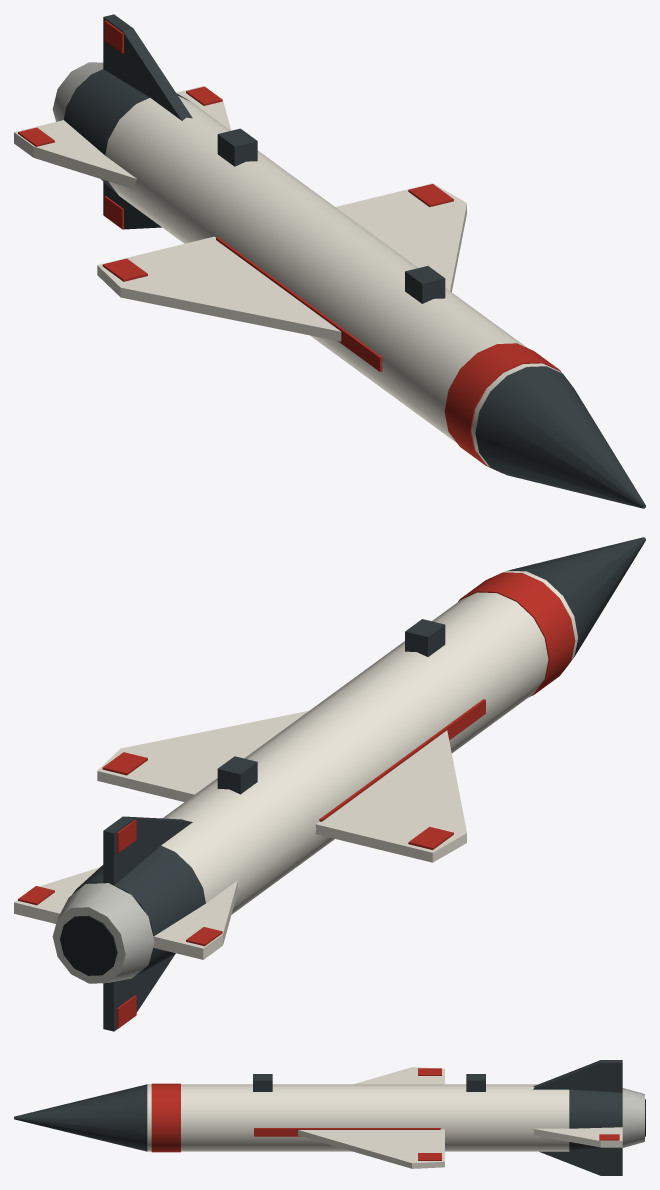
The picture shows the model from 3 angles, top to bottom: view 1: azimuth 30°, elevation 25°; view 2: azimuth 150°, elevation 25°; view 3: azimuth 270°, elevation 25°; orthographic projection. The views are drawn at different scales.
Parts seen in each view (by area): view 1: nuclear-missile-fleet-armor, nuclear-missile-fleet-machine, nuclear-missile-fleet-red, strategic-tail-fin-pair-1-fleet-machine, strategic-tail-fin-pair-0-fleet-armor, nuclear-missile-fleet-edge, strategic-tail-fin-pair-1-fleet-red, strategic-tail-fin-pair-0-fleet-red; view 2: nuclear-missile-fleet-armor, nuclear-missile-fleet-machine, nuclear-missile-fleet-red, nuclear-missile-fleet-edge, strategic-tail-fin-pair-1-fleet-machine, strategic-tail-fin-pair-0-fleet-armor, nuclear-missile-fleet-rubber, strategic-tail-fin-pair-1-fleet-red, strategic-tail-fin-pair-0-fleet-red; view 3: nuclear-missile-fleet-armor, nuclear-missile-fleet-machine, strategic-tail-fin-pair-1-fleet-machine, nuclear-missile-fleet-red, strategic-tail-fin-pair-0-fleet-armor, nuclear-missile-fleet-edge.
Part boxes in pixels (x1,y1,x2,y2): nuclear-missile-fleet-armor: (97,96,562,466); nuclear-missile-fleet-machine: (64,69,645,508); nuclear-missile-fleet-red: (102,184,561,473); strategic-tail-fin-pair-1-fleet-machine: (103,14,192,229); strategic-tail-fin-pair-0-fleet-armor: (14,86,231,190); nuclear-missile-fleet-edge: (52,62,103,121); strategic-tail-fin-pair-1-fleet-red: (104,20,123,229); strategic-tail-fin-pair-0-fleet-red: (18,86,222,146); nuclear-missile-fleet-armor: (97,570,577,914); nuclear-missile-fleet-machine: (72,537,645,979); nuclear-missile-fleet-red: (102,572,575,849); nuclear-missile-fleet-edge: (52,883,154,983); strategic-tail-fin-pair-1-fleet-machine: (103,816,192,1031); strategic-tail-fin-pair-0-fleet-armor: (14,867,237,959); nuclear-missile-fleet-rubber: (60,915,117,975); strategic-tail-fin-pair-1-fleet-red: (117,820,136,1028); strategic-tail-fin-pair-0-fleet-red: (18,886,222,946); nuclear-missile-fleet-armor: (147,1067,569,1168); nuclear-missile-fleet-machine: (14,1074,622,1151); strategic-tail-fin-pair-1-fleet-machine: (533,1060,622,1175); nuclear-missile-fleet-red: (151,1068,441,1160); strategic-tail-fin-pair-0-fleet-armor: (533,1127,622,1147); nuclear-missile-fleet-edge: (622,1088,644,1147).
Size of the model in its own units: 26.53 by 14.51 by 73.68.
